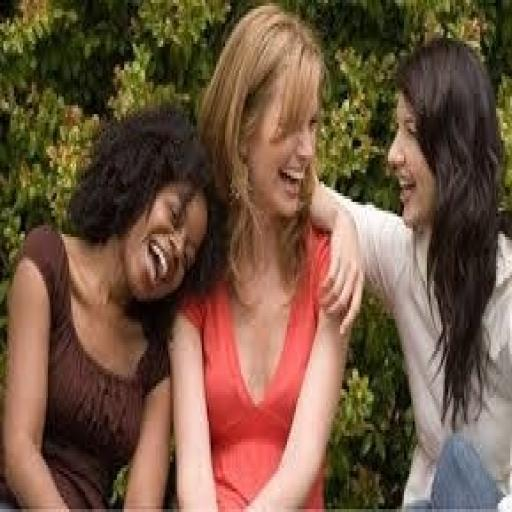laughing: (5, 6, 507, 506)
